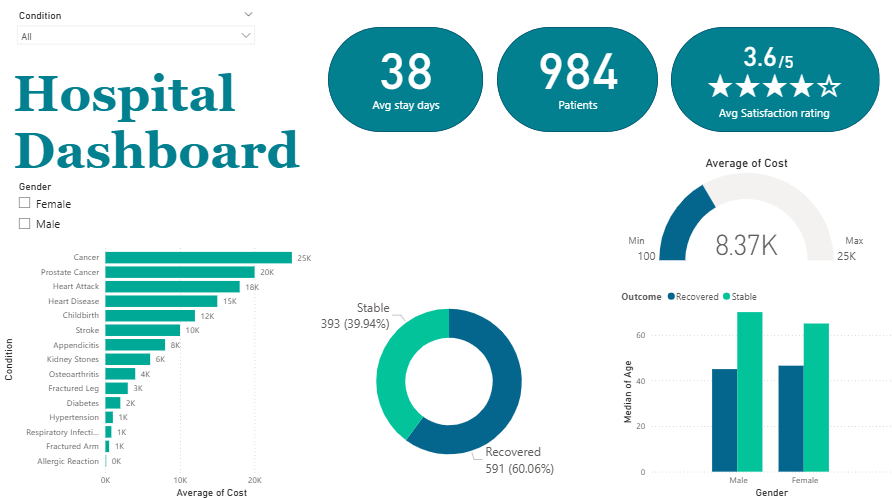

Layout of this report page (visuals, bound fields, positions):
{"tool":"powerbi","page":{"name":"Hospital dashboard","canvas":[1280,720],"ordinal":0},"visuals":[{"type":"gauge","title":"Average of Cost","fields":{"Y":["Avg(hospital data analysis.Cost)"],"MinValue":["Min(hospital data analysis.Cost)1"],"MaxValue":["Max(hospital data analysis.Cost)2"]},"box":[877.1,225,382,158.8],"z":0,"group":"g1"},{"type":"shape","box":[960,41.7,298.3,150],"z":0},{"type":"textbox","box":[894.9,331.9,38,27.8],"z":1000,"group":"g1"},{"type":"clusteredColumnChart","fields":{"Category":["hospital data analysis.Gender"],"Y":["Median(hospital data analysis.Age)"],"Series":["hospital data analysis.Outcome"]},"box":[884.3,405.7,395.7,314.3],"z":1000},{"type":"textbox","box":[1204.5,332.2,49.3,28.2],"z":2000,"group":"g1"},{"type":"barChart","fields":{"Category":["hospital data analysis.Condition"],"Y":["Avg(hospital data analysis.Cost)"]},"box":[0,341.4,471.4,378.6],"z":2000},{"type":"donutChart","title":"Outcome ","fields":{"Category":["hospital data analysis.Outcome"],"Y":["CountNonNull(hospital data analysis.Patient_ID)"]},"box":[401.4,405.7,482.9,284.3],"z":3000},{"type":"slicer","fields":{"Values":["hospital data analysis.Condition"]},"box":[15,11.7,360,78.3],"z":4000},{"type":"textbox","box":[15,90,455,180],"z":5000},{"type":"card","fields":{"Values":["Avg(hospital data analysis.Satisfaction)"]},"box":[1046.7,34,80,91.3],"z":6000},{"type":"shape","box":[470,41.7,221.7,150],"z":7000},{"type":"shape","box":[711.7,41.7,230,150],"z":8000},{"type":"card","fields":{"Values":["CountNonNull(hospital data analysis.Patient_ID)"]},"box":[760,41.4,134.3,125.7],"z":9000},{"type":"card","fields":{"Values":["Median(hospital data analysis.Length_of_Stay)"]},"box":[522.9,41.4,117.1,125.7],"z":10000},{"type":"card","fields":{"Values":["hospital data analysis.Average of Satisfaction star rating"]},"box":[973.3,73.3,270,118.3],"z":11000},{"type":"textbox","box":[1108.2,73.2,80,48.2],"z":12000},{"type":"group","id":"g1","title":"Group 1","box":[877.1,225,381.4,160],"z":13000},{"type":"slicer","fields":{"Values":["hospital data analysis.Gender"]},"box":[15.7,255.7,268.6,85.7],"z":14000}]}

Visuals, with their boxes in screenshot pixels (x1, y1, x2, y2), scaled from the page's 1280x720 canvas onto the 892x498 screenshot:
"Average of Cost" gauge: (x1=611, y1=156, x2=877, y2=265)
shape: (x1=669, y1=29, x2=877, y2=133)
textbox: (x1=624, y1=230, x2=650, y2=249)
clusteredColumnChart - hospital data analysis.Gender x Median(hospital data analysis.Age): (x1=616, y1=281, x2=891, y2=497)
textbox: (x1=839, y1=230, x2=874, y2=249)
barChart - hospital data analysis.Condition x Avg(hospital data analysis.Cost): (x1=0, y1=236, x2=329, y2=497)
"Outcome " donutChart: (x1=280, y1=281, x2=616, y2=477)
slicer - hospital data analysis.Condition: (x1=10, y1=8, x2=261, y2=62)
textbox: (x1=10, y1=62, x2=328, y2=187)
card - Avg(hospital data analysis.Satisfaction): (x1=729, y1=24, x2=785, y2=87)
shape: (x1=328, y1=29, x2=482, y2=133)
shape: (x1=496, y1=29, x2=656, y2=133)
card - CountNonNull(hospital data analysis.Patient_ID): (x1=530, y1=29, x2=623, y2=116)
card - Median(hospital data analysis.Length_of_Stay): (x1=364, y1=29, x2=446, y2=116)
card - hospital data analysis.Average of Satisfaction star rating: (x1=678, y1=51, x2=866, y2=133)
textbox: (x1=772, y1=51, x2=828, y2=84)
"Group 1" group: (x1=611, y1=156, x2=877, y2=266)
slicer - hospital data analysis.Gender: (x1=11, y1=177, x2=198, y2=236)
